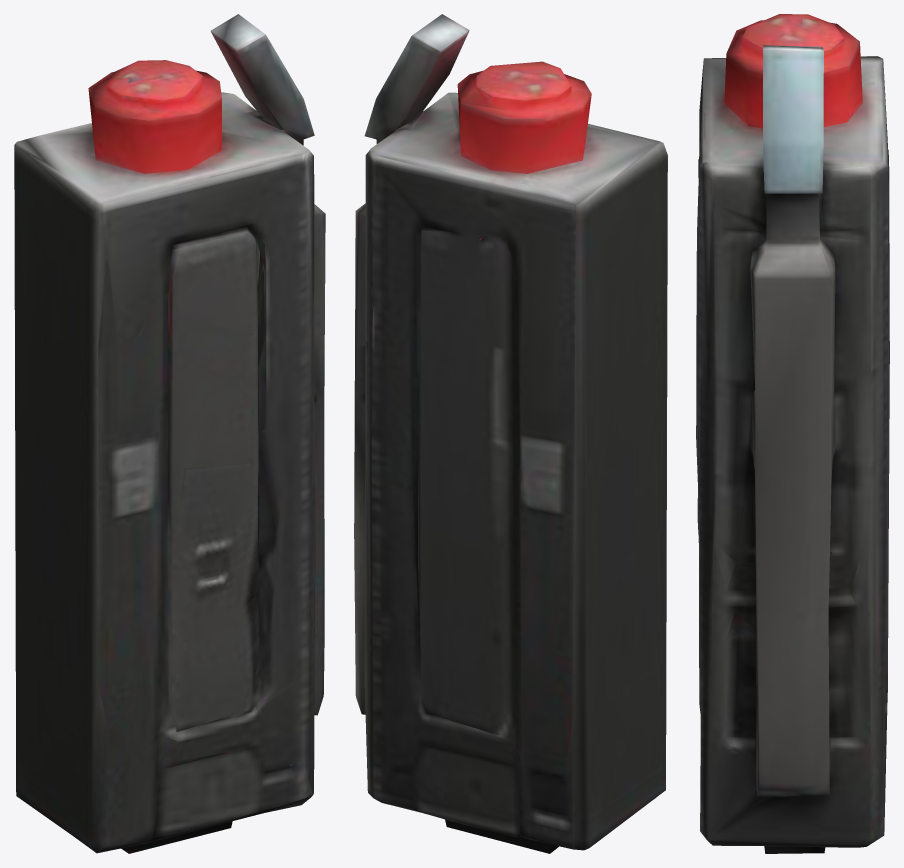
File: detonator.glb
3 views of the same model, side by side, from view 1: azimuth 30°, elevation 25°; view 2: azimuth 150°, elevation 25°; view 3: azimuth 270°, elevation 25° (orthographic). The views are drawn at different scales.
Visible parts, largest first — view 1: detonator; view 2: detonator; view 3: detonator.
Boxes of the visible parts, x1,y1,x2,y2 form: detonator: (14,14,325,853); detonator: (354,14,667,853); detonator: (696,14,889,853).
Size of the model in its own units: 0.3416 by 0.9995 by 0.2128.
Materials: 1 (1 with a texture image).
